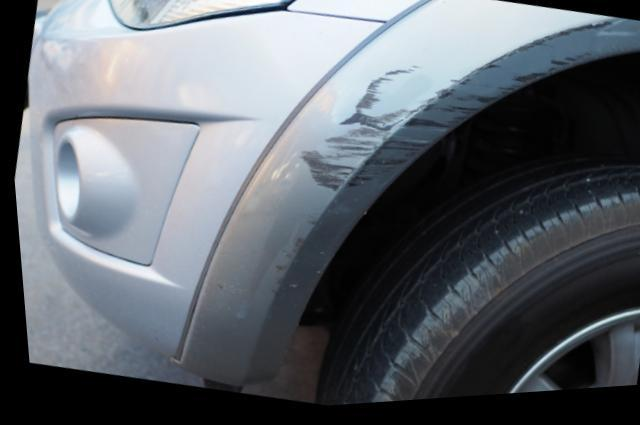rub: (295, 25, 618, 200)
